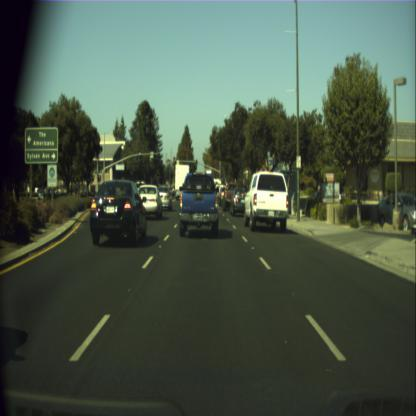Green: (195, 158, 197, 166), (220, 175, 221, 181)
Red: (173, 157, 176, 165)
